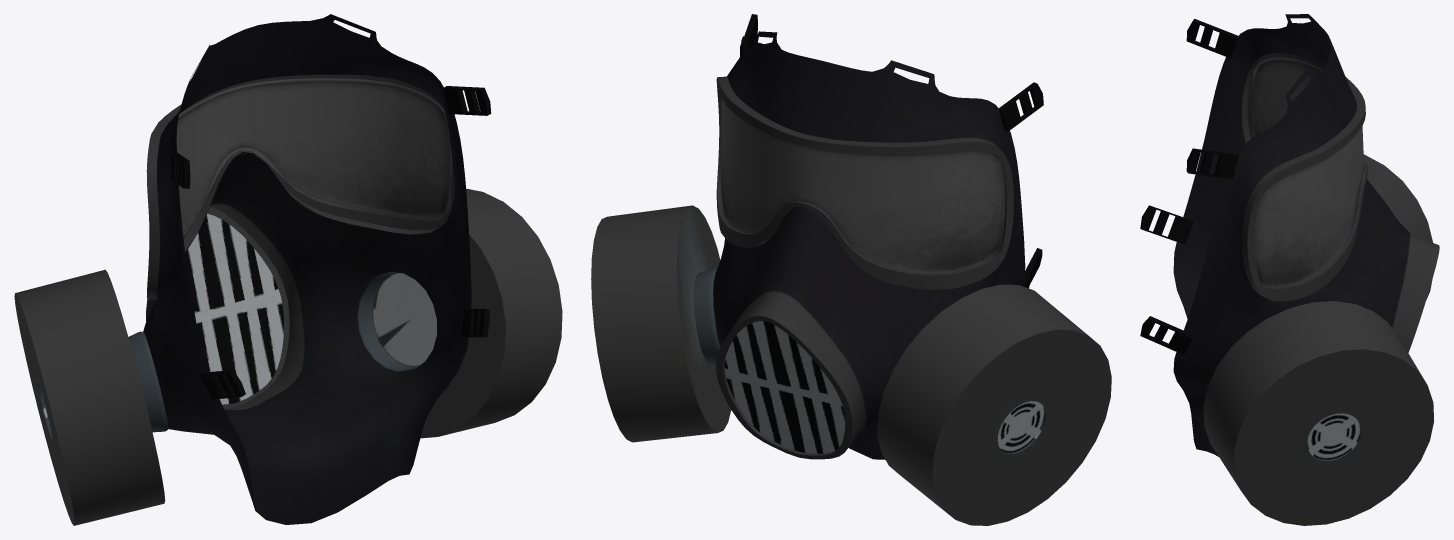
The model's file is gas_mask_black.glb.
3 renders of one model, left to right at view 1: azimuth 30°, elevation 25°; view 2: azimuth 150°, elevation 25°; view 3: azimuth 270°, elevation 25°, orthographic. The views are drawn at different scales.
Visible parts, largest first — view 1: gas_mask_black_4, gas_mask_black_3; view 2: gas_mask_black_4, gas_mask_black_3; view 3: gas_mask_black_4, gas_mask_black_3.
Boxes of the visible parts, x1=… form: gas_mask_black_4: x1=14, y1=14, x2=562, y2=525; gas_mask_black_3: x1=171, y1=86, x2=491, y2=399; gas_mask_black_4: x1=591, y1=31, x2=1111, y2=525; gas_mask_black_3: x1=740, y1=14, x2=1043, y2=288; gas_mask_black_4: x1=1173, y1=14, x2=1439, y2=525; gas_mask_black_3: x1=1140, y1=18, x2=1238, y2=354.
Size of the model in its own units: 0.289 by 0.2526 by 0.1644.
Materials: 2 (1 with a texture image).
